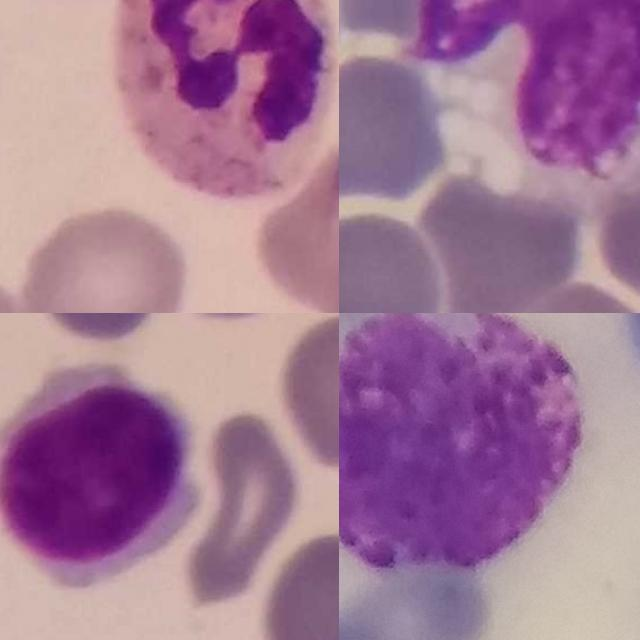Basophil: (339, 313, 587, 576)
Lymphocyte: (0, 357, 201, 596)
Monocyte: (412, 0, 640, 191)
Neutrophil: (117, 0, 336, 195)
